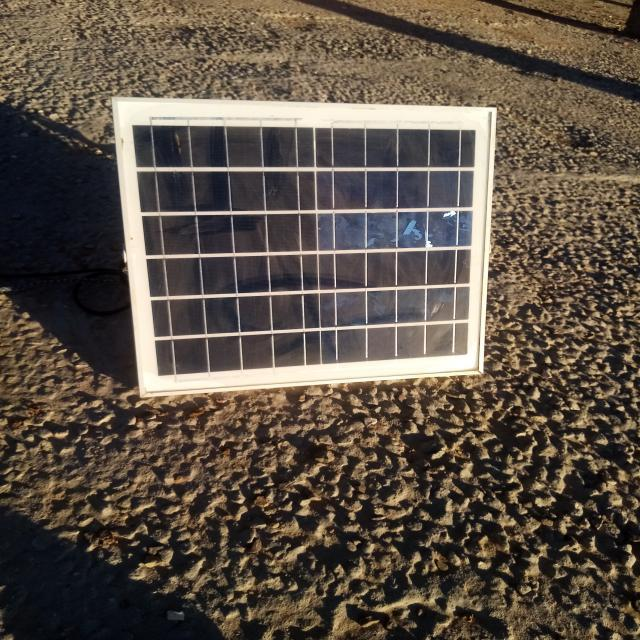faulty: (119, 102, 496, 392)
